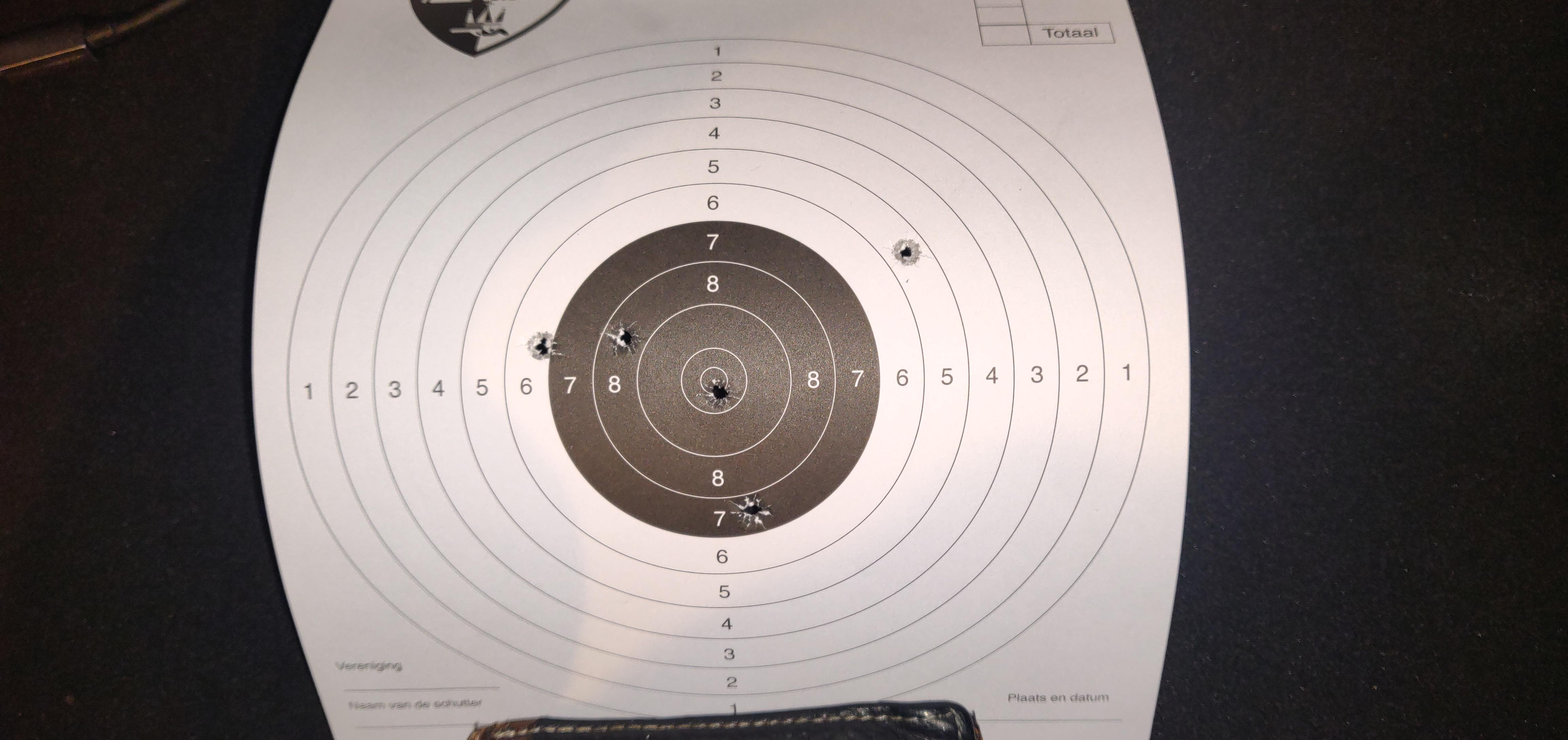hole: (920, 377, 966, 422), (794, 206, 840, 249), (828, 327, 874, 364), (1005, 377, 1044, 410), (643, 471, 679, 503)
